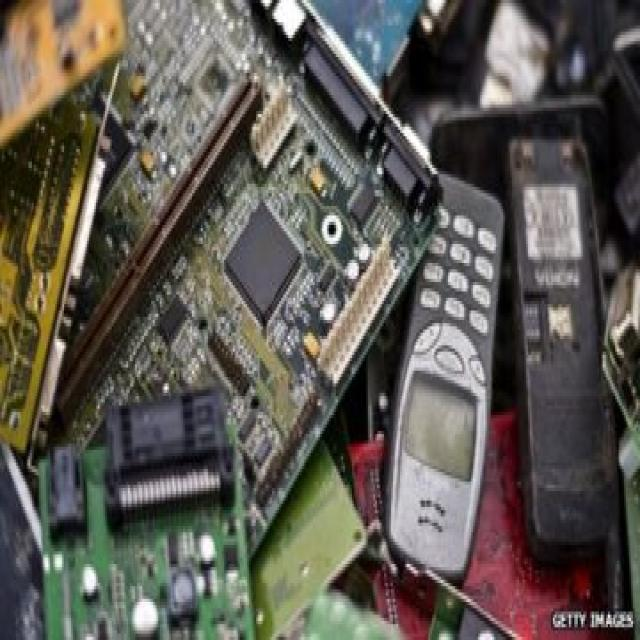Hazard: (7, 0, 640, 636)
